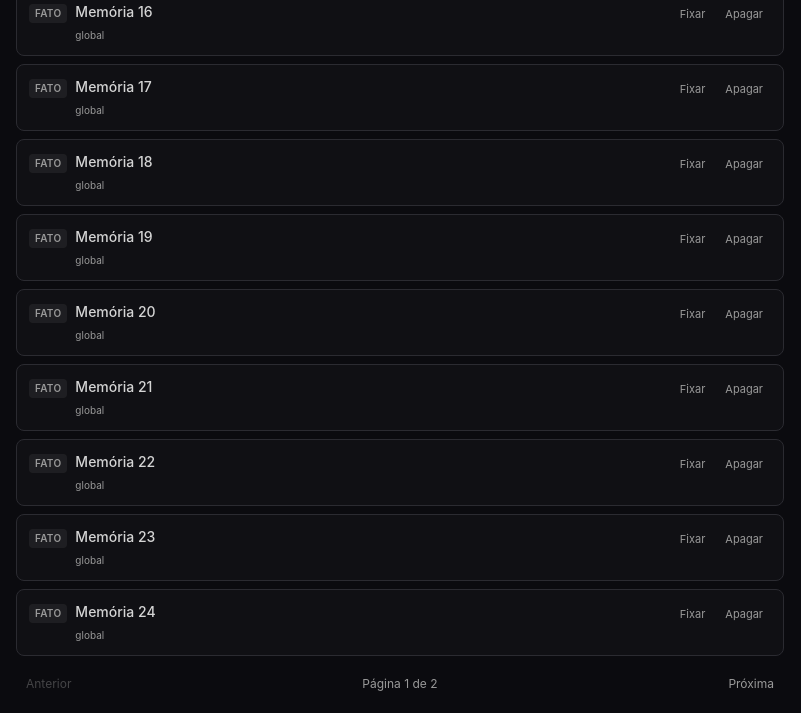
Test: MemoryView paging › turning the archived filter on goes back to page 1 and asks for archived ones
(page scrolled)
Click the button "Próxima" at [751, 684], box x1=718 y1=672 x2=784 y2=696
(page scrolled)
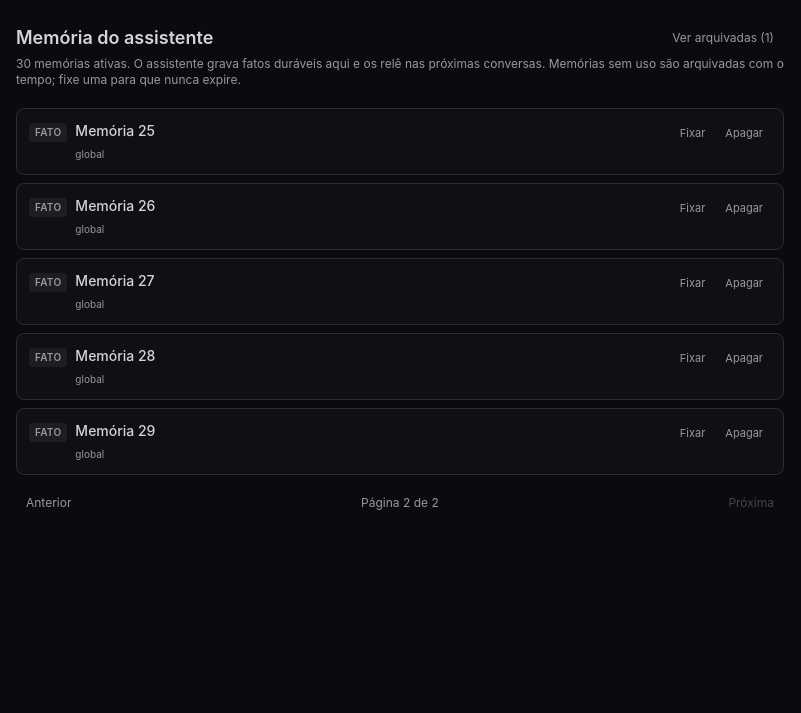
Expected: the text "Página 2 de 2" is shown, x1=361 y1=495 x2=439 y2=511
Click the button "Ver arquivadas (1)" at [723, 38], box x1=662 y1=26 x2=784 y2=50
(page scrolled)
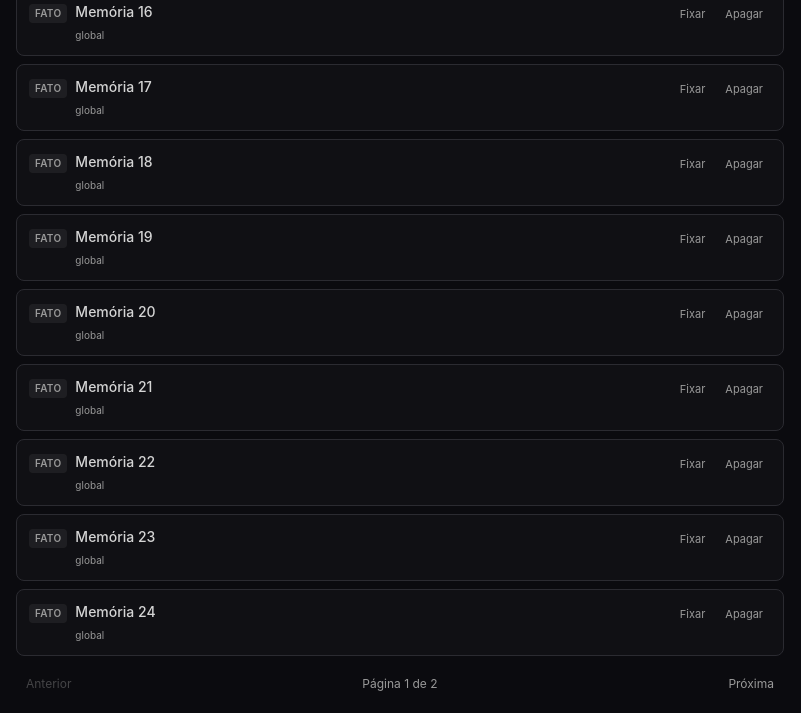
Expected: the text "Página 1 de 2" is shown, x1=362 y1=676 x2=438 y2=692
